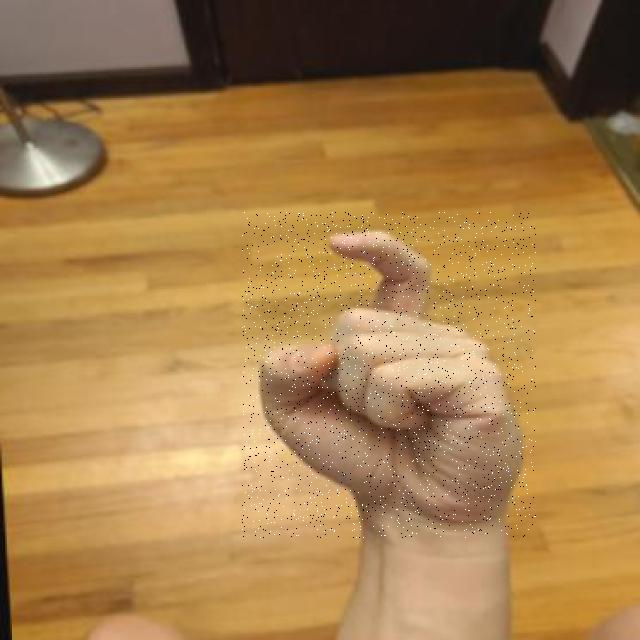X: (243, 212, 536, 538)
